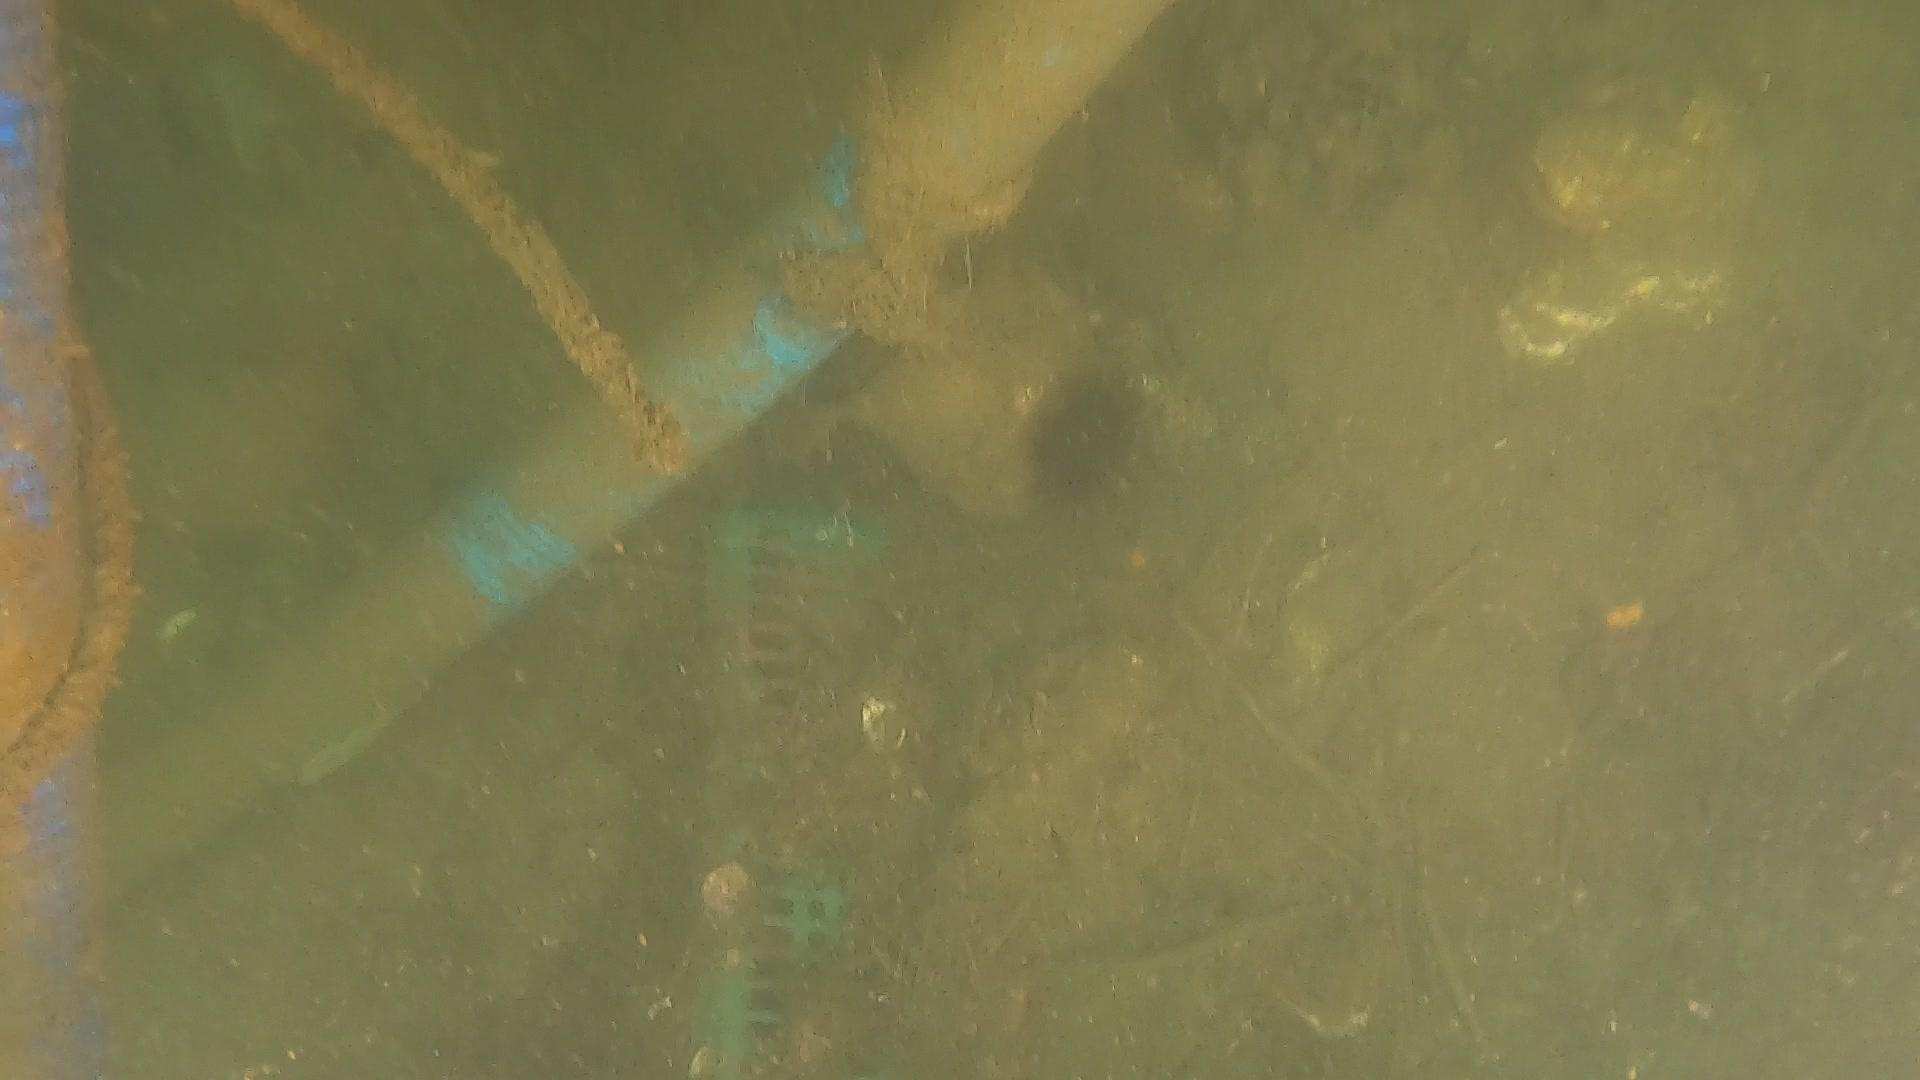rope: (0, 309, 136, 793)
